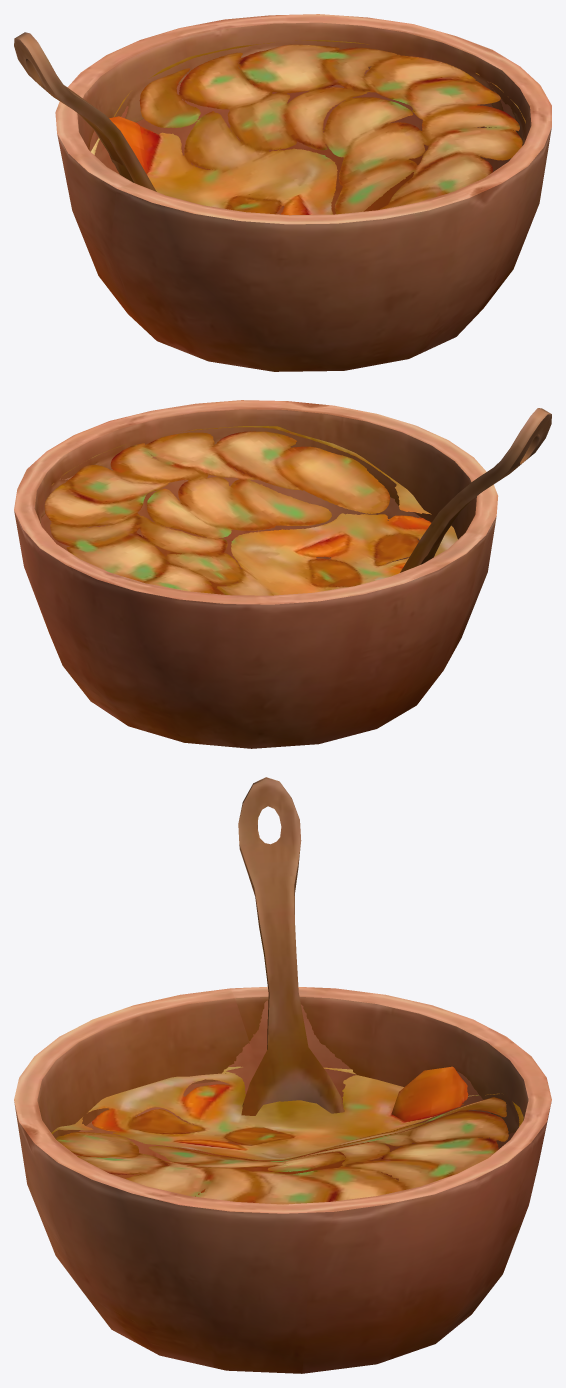
3 renders of one model, top to bottom at view 1: azimuth 30°, elevation 25°; view 2: azimuth 150°, elevation 25°; view 3: azimuth 270°, elevation 25°, orthographic. The views are drawn at different scales.
Visible parts, largest first — view 1: SM_Varrock_Hotpot_01_LOD0; view 2: SM_Varrock_Hotpot_01_LOD0; view 3: SM_Varrock_Hotpot_01_LOD0.
Boxes of the visible parts, left/top/right/bottom form: SM_Varrock_Hotpot_01_LOD0: left=14, top=14, right=551, bottom=371; SM_Varrock_Hotpot_01_LOD0: left=14, top=400, right=551, bottom=748; SM_Varrock_Hotpot_01_LOD0: left=14, top=777, right=551, bottom=1373.
Size of the model in its own units: 0.3818 by 0.2423 by 0.3243.
Materials: 1 (1 with a texture image).
